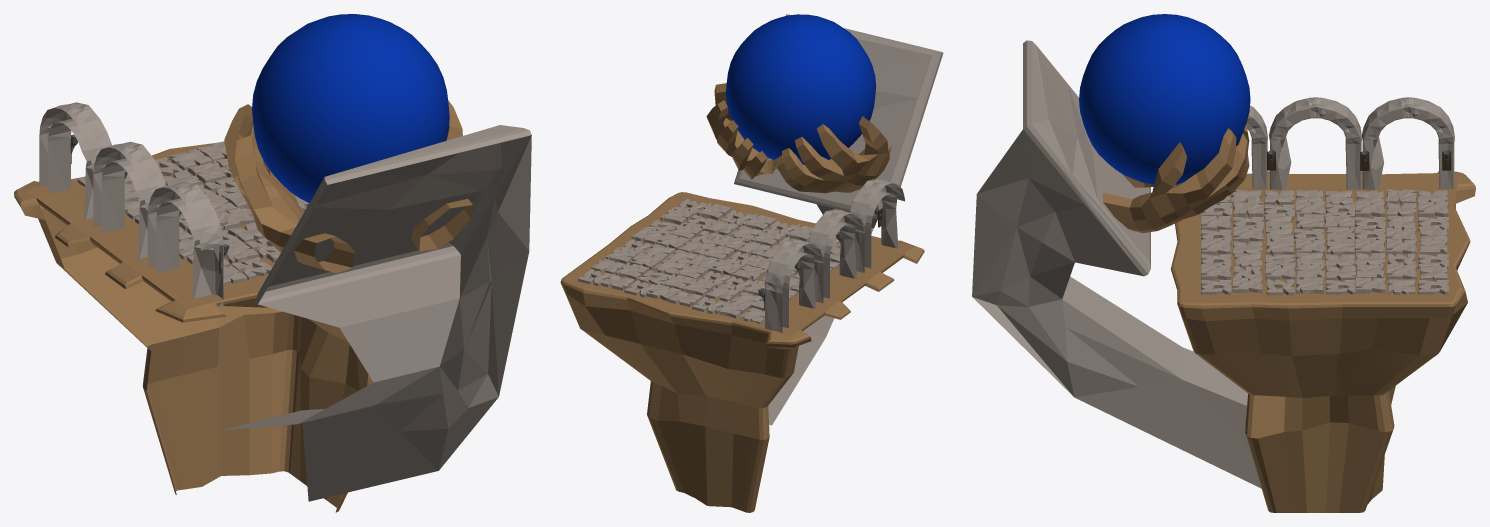
Rendered from Board.fbx.
3 views of the same model, side by side, from view 1: azimuth 30°, elevation 25°; view 2: azimuth 150°, elevation 25°; view 3: azimuth 270°, elevation 25° (orthographic). The views are drawn at different scales.
Parts seen in each view (by area): view 1: HAnd_Base, Base, Water_Orb, polySurface229, Arch_3, Arch_2, Arch, Stone_Hands_MDl, Temp_Tile31; view 2: Base, Water_Orb, HAnd_Base, polySurface229, Arch, Arch_3, Arch_2, Stone_Hands_MDl; view 3: HAnd_Base, Base, Water_Orb, Stone_Hands_MDl, Arch_2, Arch, Arch_3.
Boxes of the visible parts, left/top/right/bottom form: HAnd_Base: left=219, top=125, right=531, bottom=501; Base: left=14, top=143, right=373, bottom=512; Water_Orb: left=252, top=14, right=449, bottom=202; polySurface229: left=224, top=104, right=355, bottom=273; Arch_3: left=147, top=181, right=223, bottom=307; Arch_2: left=93, top=141, right=165, bottom=259; Arch: left=39, top=102, right=111, bottom=220; Stone_Hands_MDl: left=411, top=100, right=472, bottom=251; Temp_Tile31: left=188, top=161, right=232, bottom=183; Base: left=560, top=192, right=924, bottom=512; Water_Orb: left=726, top=14, right=875, bottom=164; HAnd_Base: left=734, top=14, right=943, bottom=425; polySurface229: left=775, top=116, right=891, bottom=193; Arch: left=764, top=239, right=822, bottom=332; Arch_3: left=849, top=178, right=904, bottom=272; Arch_2: left=808, top=209, right=863, bottom=302; Stone_Hands_MDl: left=706, top=83, right=777, bottom=179; HAnd_Base: left=972, top=40, right=1261, bottom=488; Base: left=1171, top=171, right=1475, bottom=512; Water_Orb: left=1079, top=14, right=1250, bottom=184; Stone_Hands_MDl: left=1102, top=128, right=1249, bottom=233; Arch_2: left=1269, top=97, right=1361, bottom=189; Arch: left=1362, top=97, right=1454, bottom=189; Arch_3: left=1176, top=105, right=1267, bottom=189.
Size of the model in its own units: 64.09 by 102 by 98.7.
